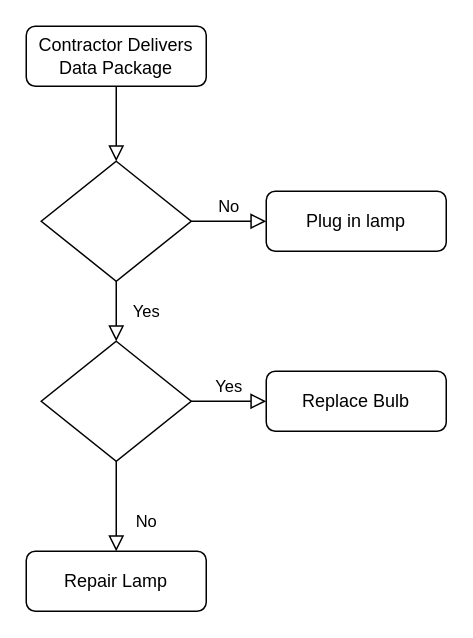
This 473x638 diagram has some shape labels left out. The shapes that lost their labels are listed below. From the top down, each one's centre as x and y in pixels, then its label:
point 115,220: Lamp plugged in?
point 115,400: Bulb burned out?
